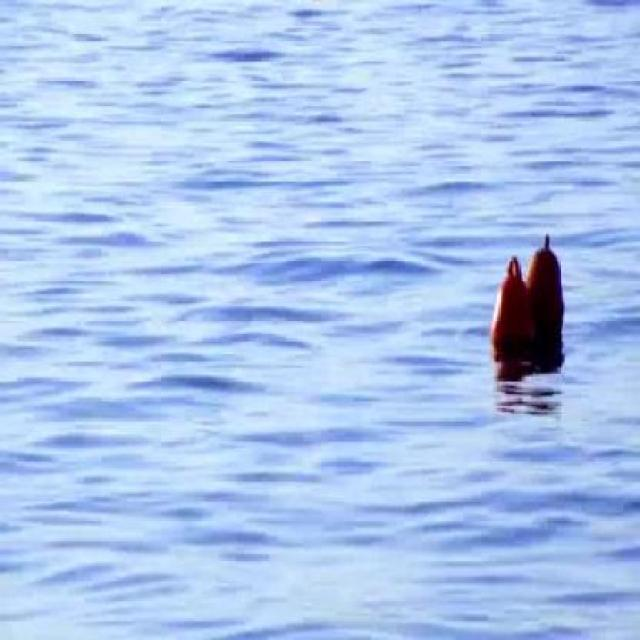a: (483, 217, 571, 359)
